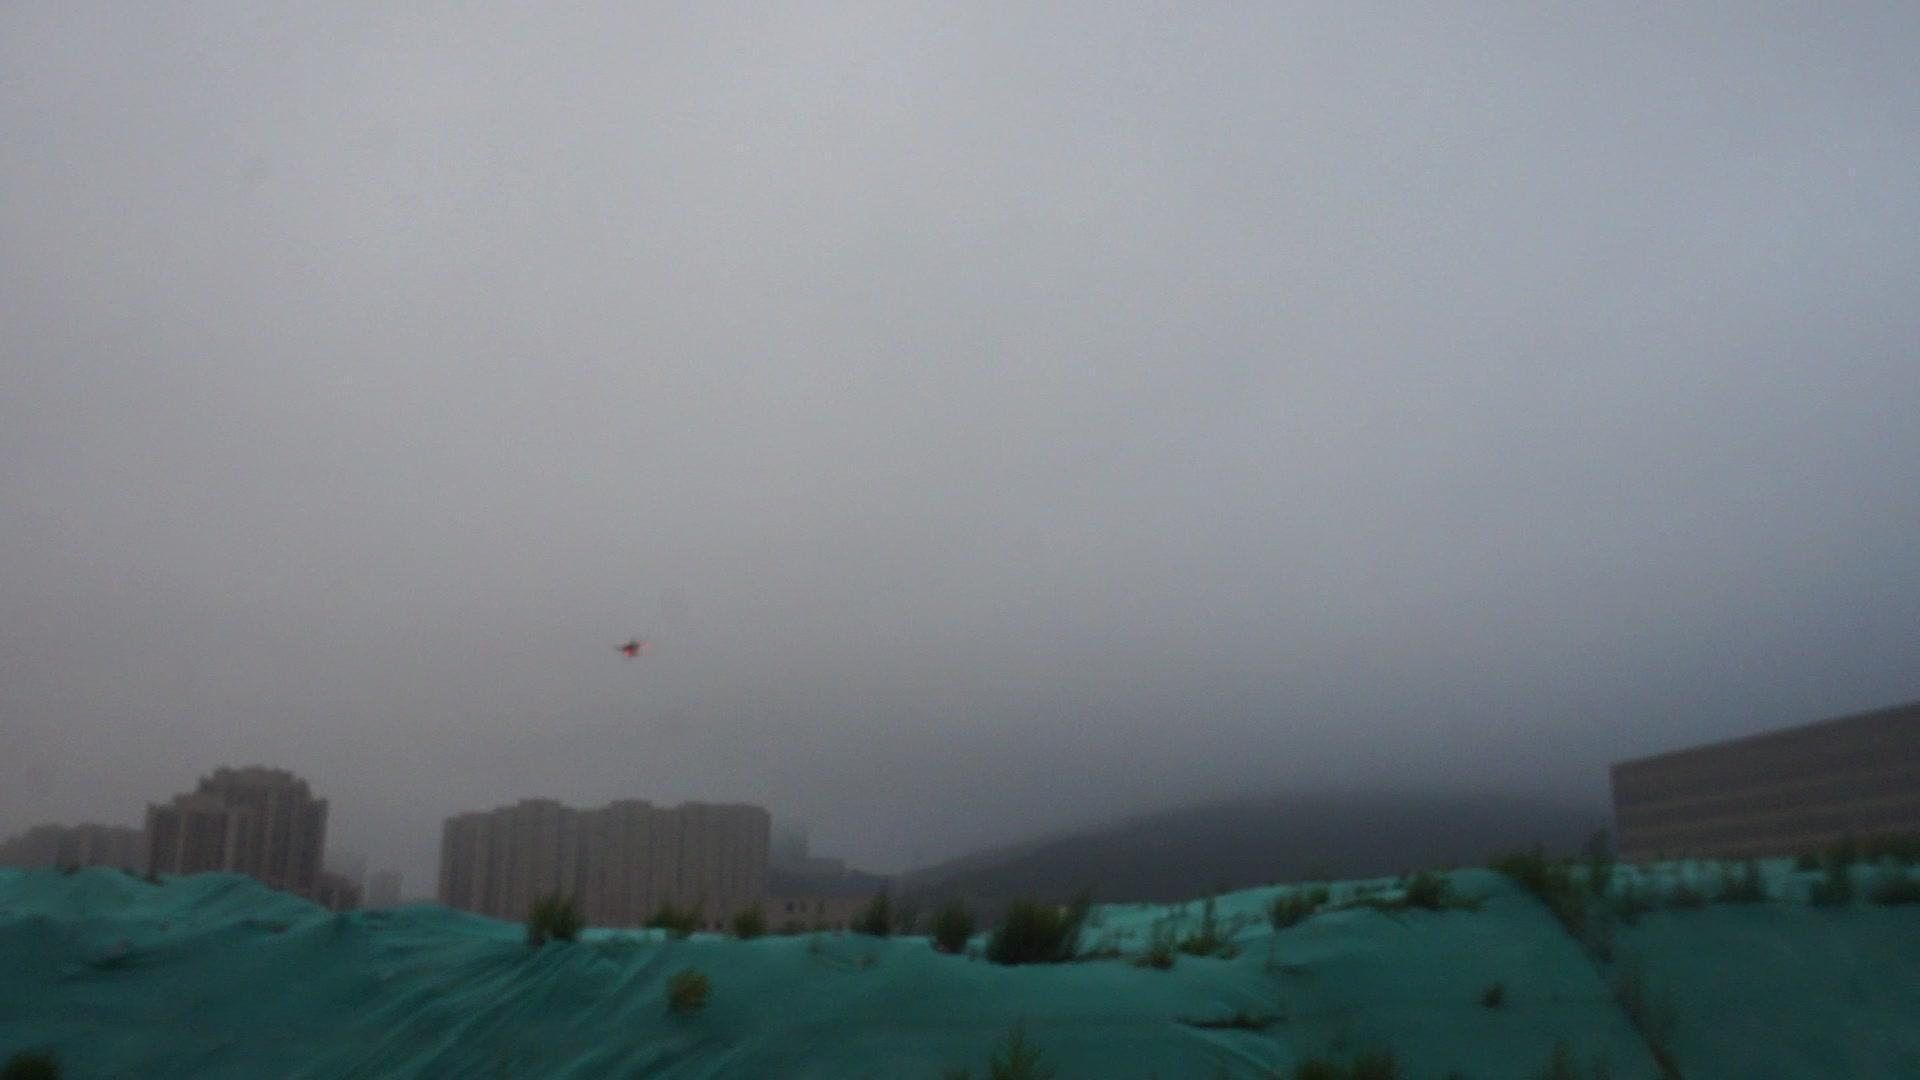UAV: (615, 641, 650, 658)
